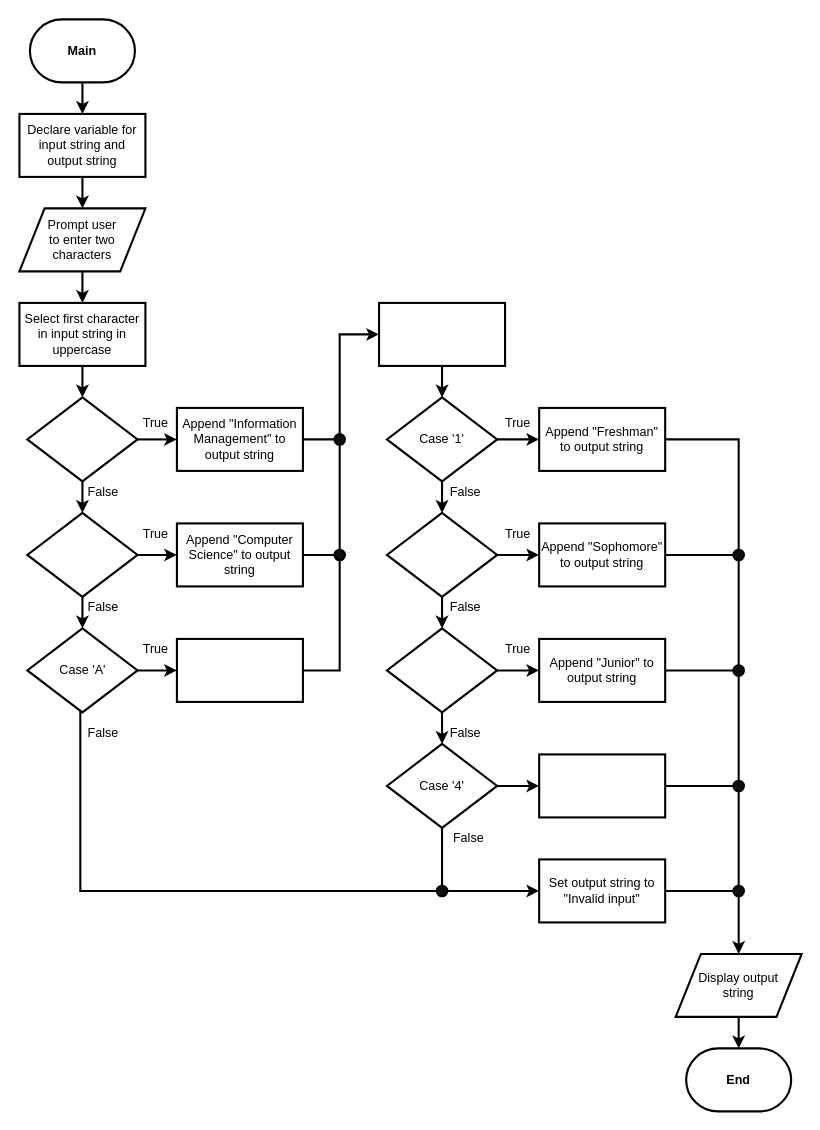
Some shapes in this 820 by 1130 pixel diagram are drawn without their labels. Here are the shapes that lost their labels. From the top down, the centre of each, then its label:
(x=441, y=333): Select second character in input string
(x=82, y=439): Case 'I'
(x=82, y=554): Case 'C'
(x=441, y=554): Case '2'
(x=239, y=669): Append "Accounting" to output string
(x=441, y=670): Case '3'
(x=602, y=785): Append "Senior" to output string
